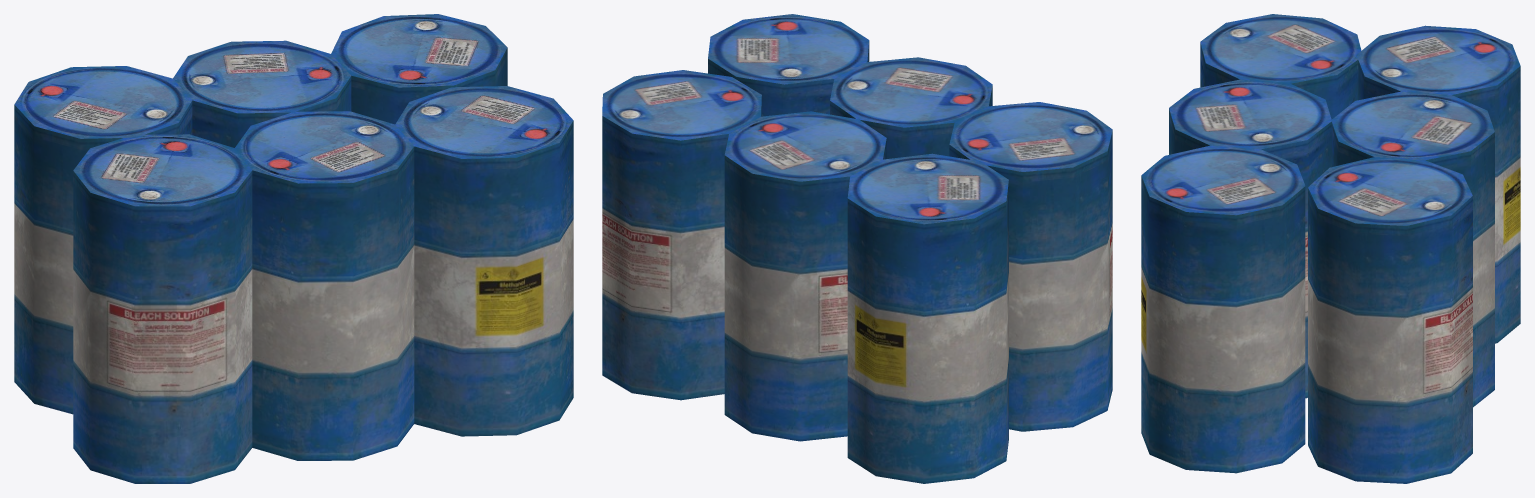
File: Barrel_v3_quadro.006.glb
3 renders of one model, left to right at view 1: azimuth 30°, elevation 25°; view 2: azimuth 150°, elevation 25°; view 3: azimuth 270°, elevation 25°, orthographic. The views are drawn at different scales.
Parts seen in each view (by area): view 1: Barrel_v3_quadro.006; view 2: Barrel_v3_quadro.006; view 3: Barrel_v3_quadro.006.
Boxes of the visible parts, <box> form: Barrel_v3_quadro.006: <box>14,14,573,483</box>; Barrel_v3_quadro.006: <box>602,14,1112,483</box>; Barrel_v3_quadro.006: <box>1141,14,1520,483</box>.
Size of the model in its own units: 1.68 by 0.9547 by 1.27.
1 material, 1 textured.
